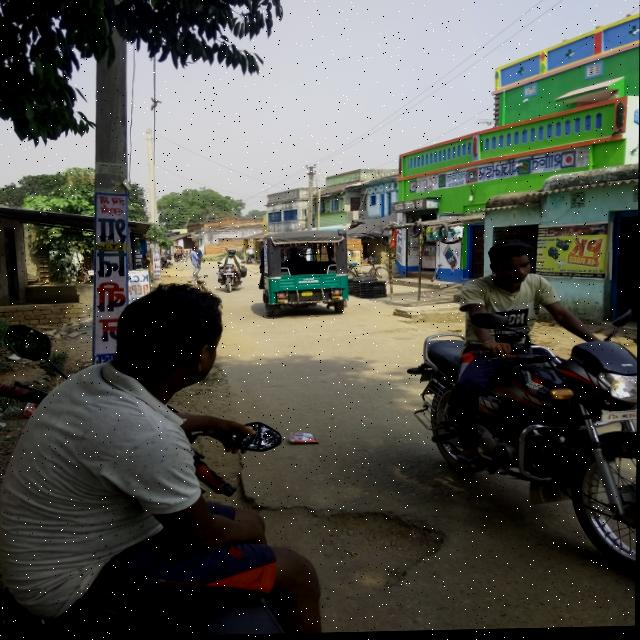plate: (602, 411, 638, 427), (301, 293, 313, 298), (223, 274, 235, 276)
